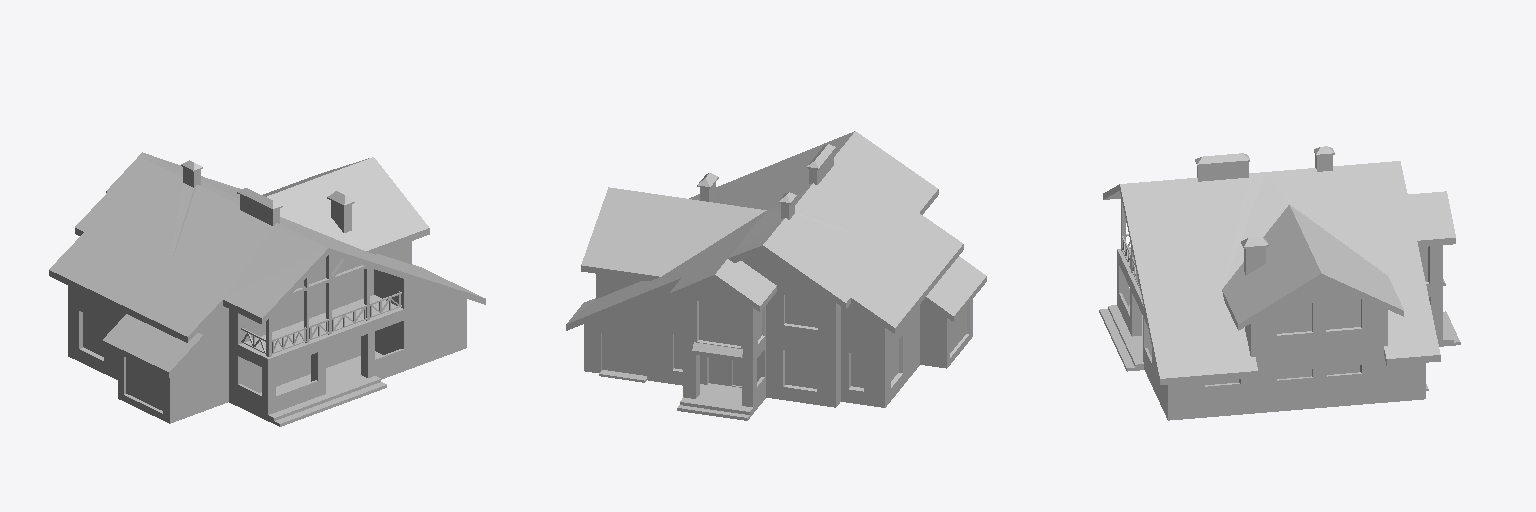
Rendered from house.obj.
The picture shows the model from 3 angles: view 1: azimuth 30°, elevation 25°; view 2: azimuth 150°, elevation 25°; view 3: azimuth 270°, elevation 25°; orthographic projection.
Parts seen in each view (by area): view 1: Alpine_chalet_Cube; view 2: Alpine_chalet_Cube; view 3: Alpine_chalet_Cube.
Part boxes in pixels (x1,y1,x2,y2): Alpine_chalet_Cube: (49,152,485,426); Alpine_chalet_Cube: (566,131,986,420); Alpine_chalet_Cube: (1099,146,1460,420).
Bounding box in the file's own units: 10.67 × 5.34 × 9.82.